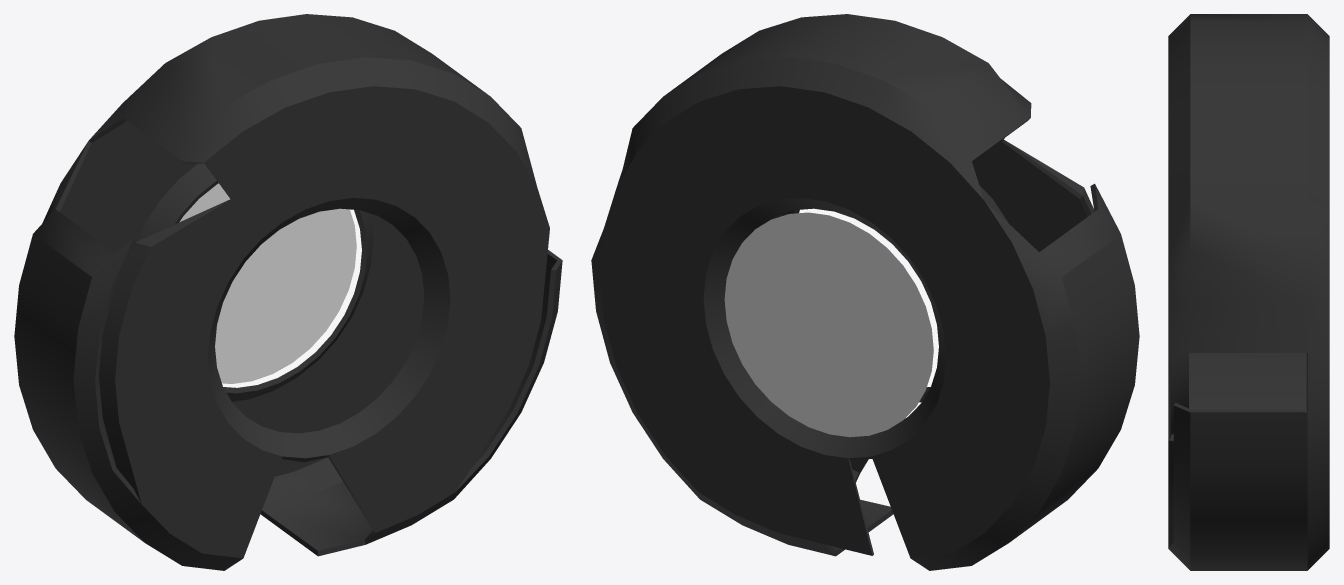
Rendered from Wheel_broken.fbx.
The picture shows the model from 3 angles, left to right: view 1: azimuth 30°, elevation 25°; view 2: azimuth 150°, elevation 25°; view 3: azimuth 270°, elevation 25°; orthographic projection.
Parts seen in each view (by area): view 1: Velg.Broken.001; view 2: Velg.Broken.001; view 3: Velg.Broken.001.
Part boxes in pixels (left/top/right/bottom): Velg.Broken.001: left=14, top=14, right=562, bottom=570; Velg.Broken.001: left=591, top=14, right=1139, bottom=570; Velg.Broken.001: left=1168, top=14, right=1329, bottom=570.
Size of the model in its own units: 156 by 150 by 44.8.
